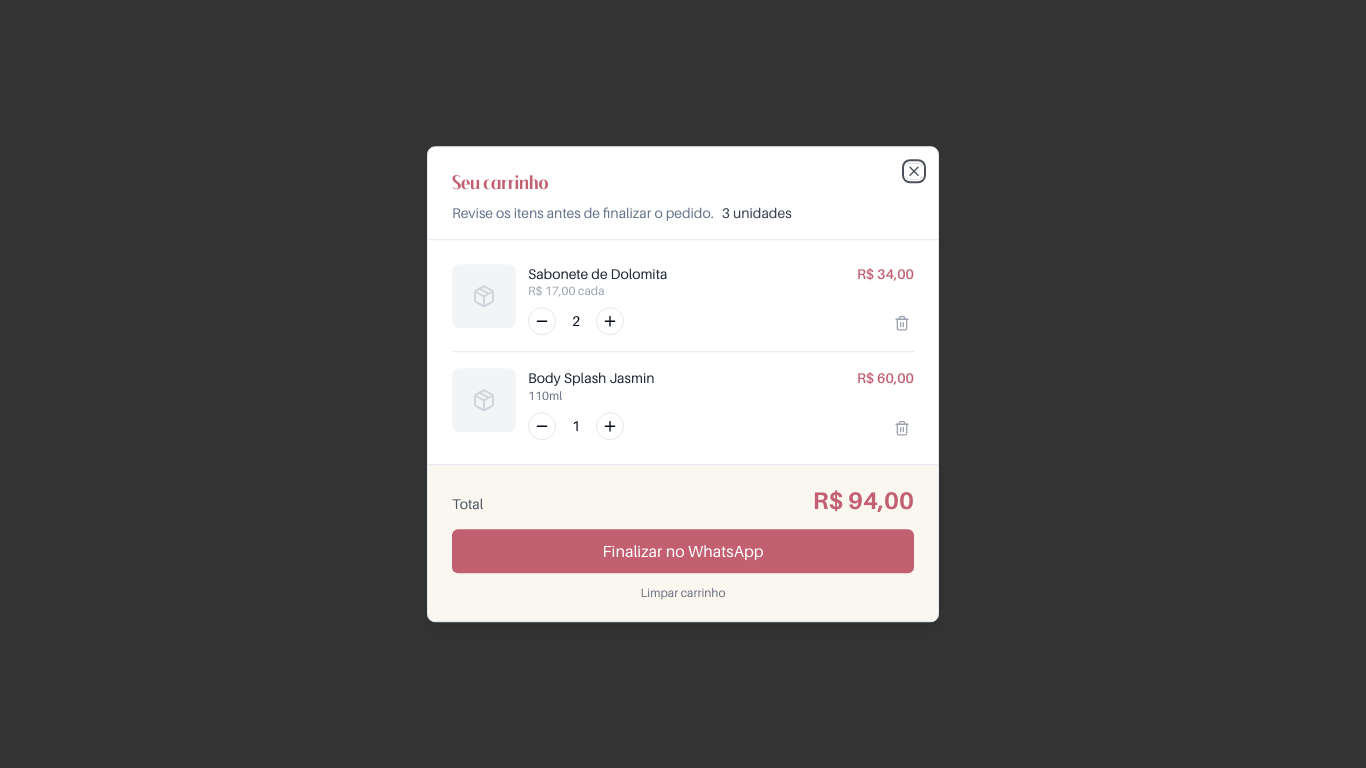
it: CarrinhoModal — limpar e vazio › "Limpar carrinho" esvazia tudo e mostra o estado vazio
Click the button "Limpar carrinho" at [683, 593], box [452,585,914,601]
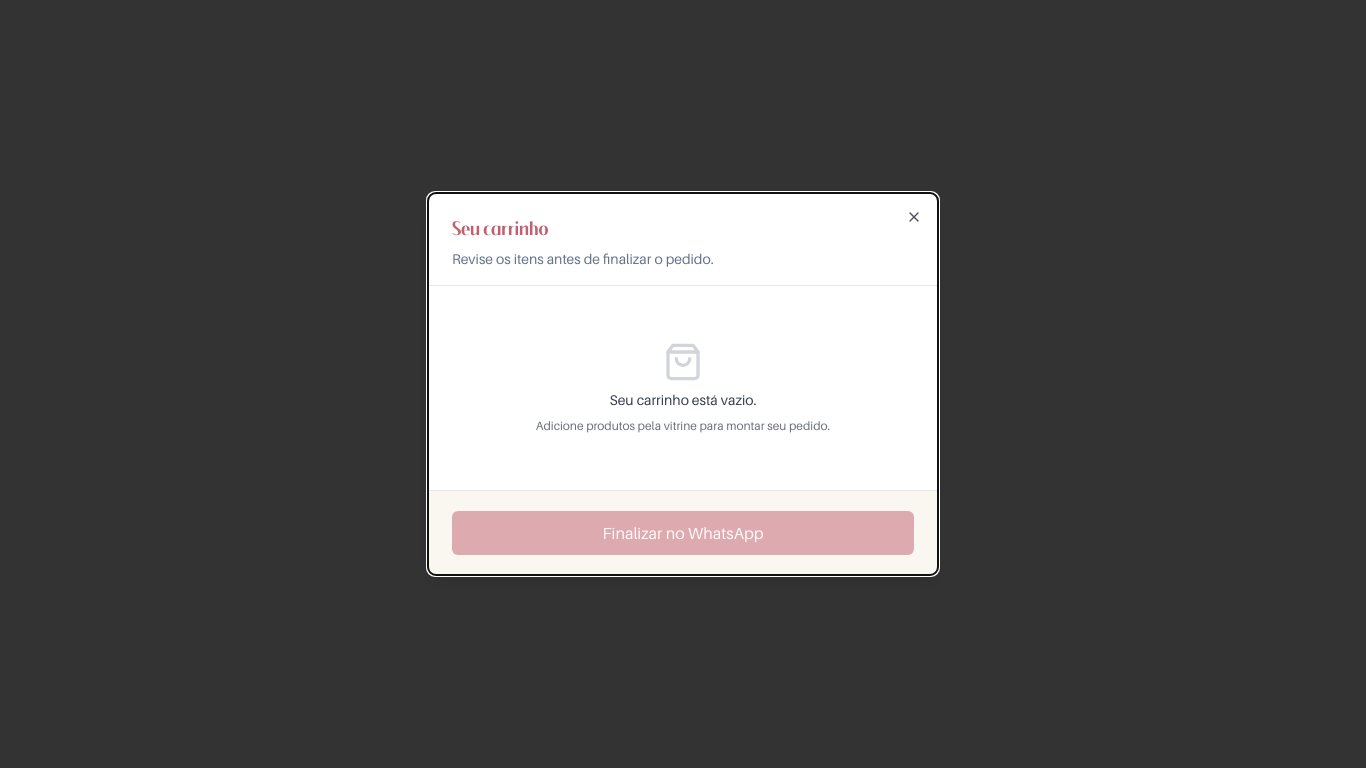
Now the list item with test id "item-SAB08" is gone
Now the text "Seu carrinho está vazio." is shown, box [609,390,756,410]
